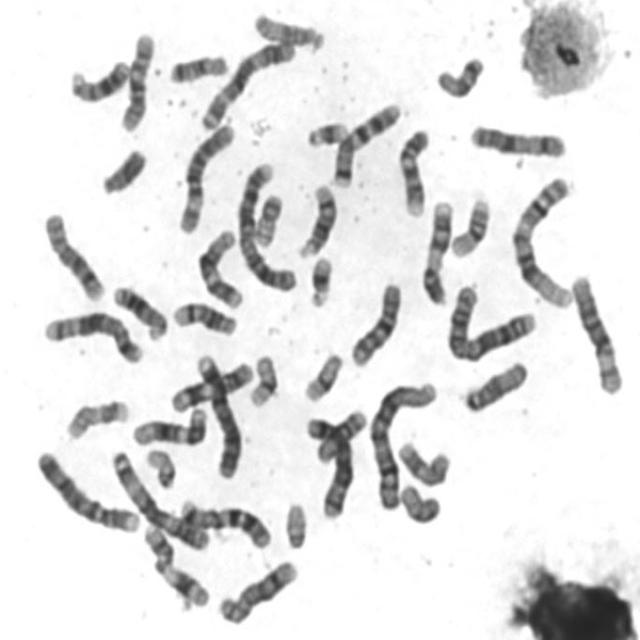A1: (364, 375, 440, 513), (505, 169, 578, 311)
A2: (232, 156, 300, 294), (442, 277, 538, 364)
A3: (104, 443, 212, 554), (195, 32, 297, 132)
B4: (30, 443, 142, 536), (191, 348, 244, 481)
B5: (38, 304, 145, 365), (299, 410, 356, 520)
C10: (345, 276, 405, 369), (115, 25, 157, 134)
C11: (137, 518, 212, 611), (167, 355, 256, 415)
C12: (193, 224, 247, 311), (127, 401, 210, 449)
C6: (173, 116, 237, 236), (566, 268, 626, 396)
C7: (328, 96, 403, 189), (174, 492, 274, 551)
C8: (38, 205, 107, 304), (213, 553, 300, 627)
C9: (417, 195, 455, 308), (393, 123, 432, 219)
D13: (108, 280, 170, 342), (63, 52, 133, 104)
D14: (292, 177, 340, 261), (168, 295, 239, 338)
D15: (457, 354, 531, 415), (248, 5, 328, 52)
E16: (311, 403, 369, 466), (446, 191, 492, 260)
E17: (60, 391, 132, 441), (392, 436, 452, 489)
E18: (430, 50, 487, 100), (163, 47, 230, 86)
F19: (298, 347, 346, 404), (244, 348, 280, 409)
F20: (249, 187, 285, 249), (399, 485, 450, 526)
G21: (303, 250, 335, 310), (301, 114, 350, 150)
G22: (140, 442, 179, 490), (278, 495, 310, 552)
X: (465, 118, 568, 161)
Y: (96, 141, 149, 198)
